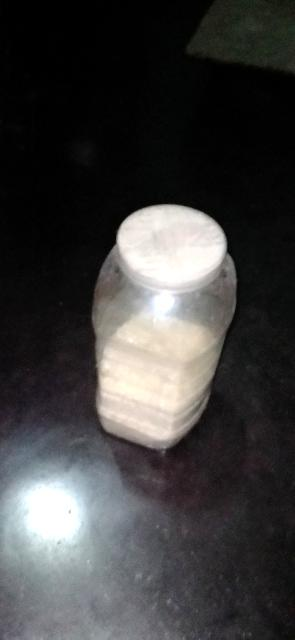hardplastic: (67, 158, 259, 496)
